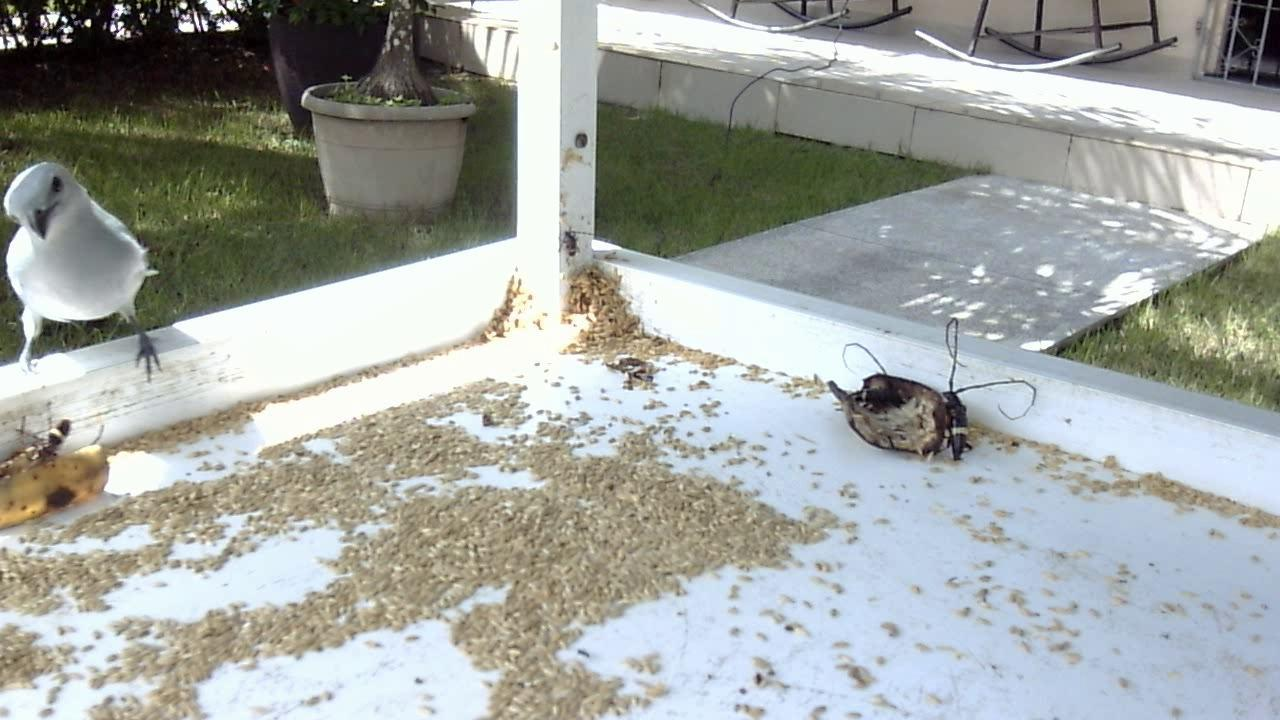sanhaco_da_amazonia: (1, 160, 174, 384)
